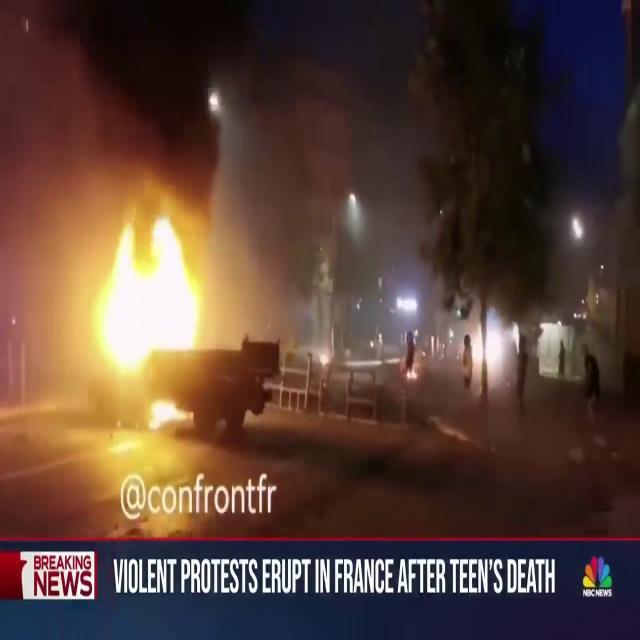Fire: (82, 201, 215, 382)
Smoke: (0, 2, 225, 268), (195, 15, 368, 333)
